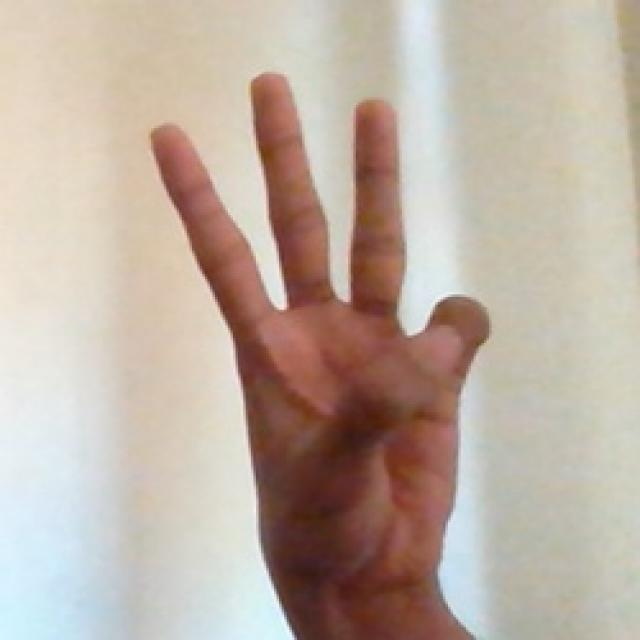Numeric-6: (145, 55, 498, 623), (527, 565, 528, 565)
